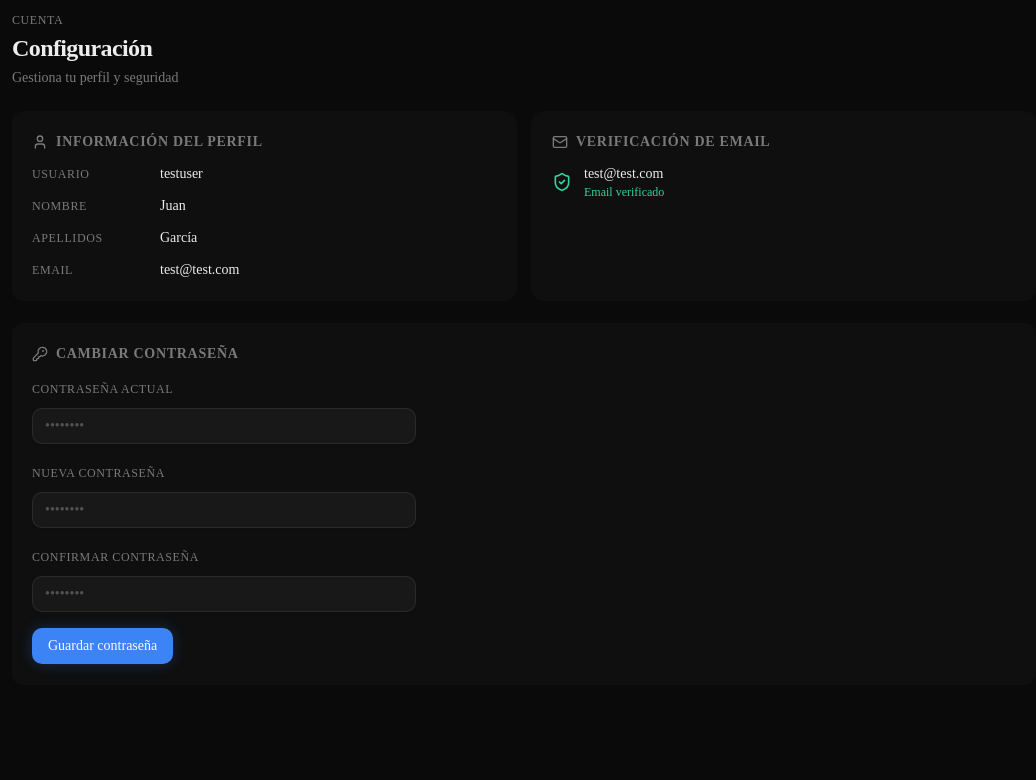
it: SettingsPage › shows success message after changing password
Type "oldpass123" into the password field labelled "Contraseña actual" at (224, 426), box [32,408,416,444]
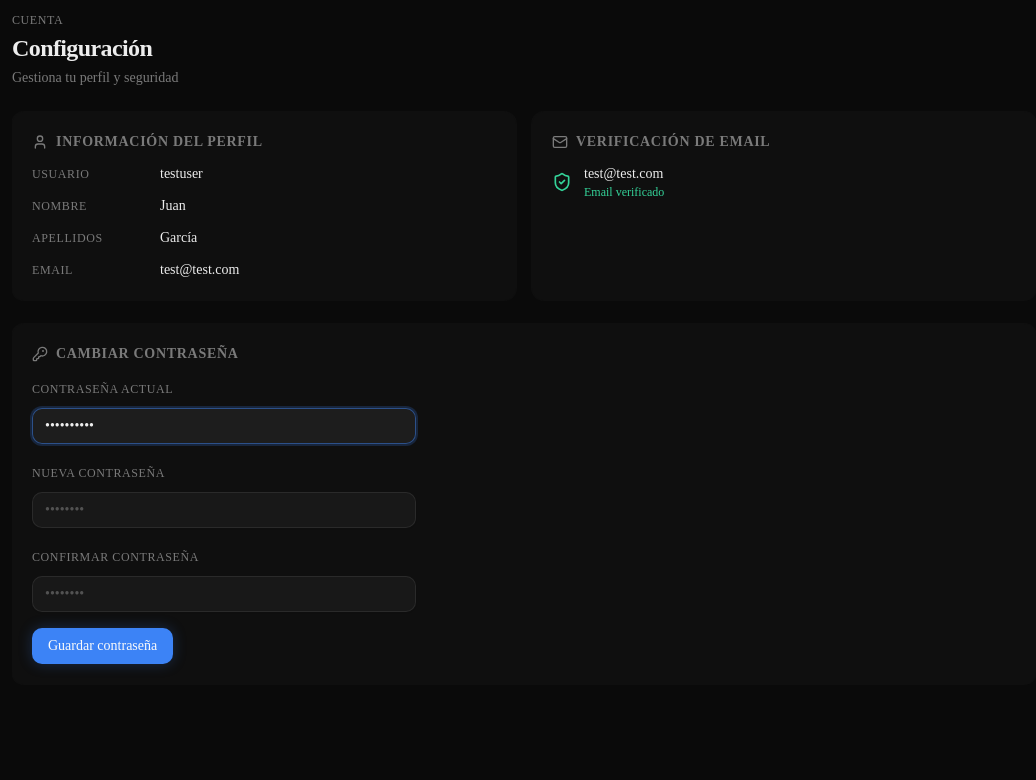
Type "newpass123" into the password field labelled "Nueva contraseña" at (224, 510), box [32,492,416,528]
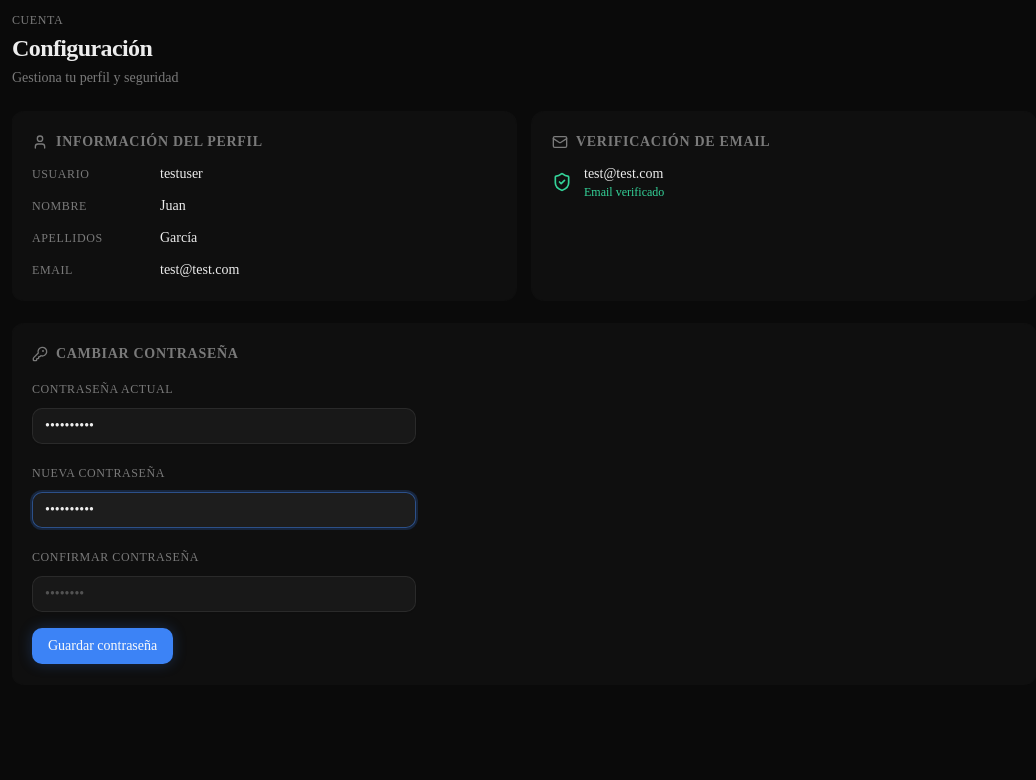
Type "newpass123" into the password field labelled "Confirmar contraseña" at (224, 594), box [32,576,416,612]
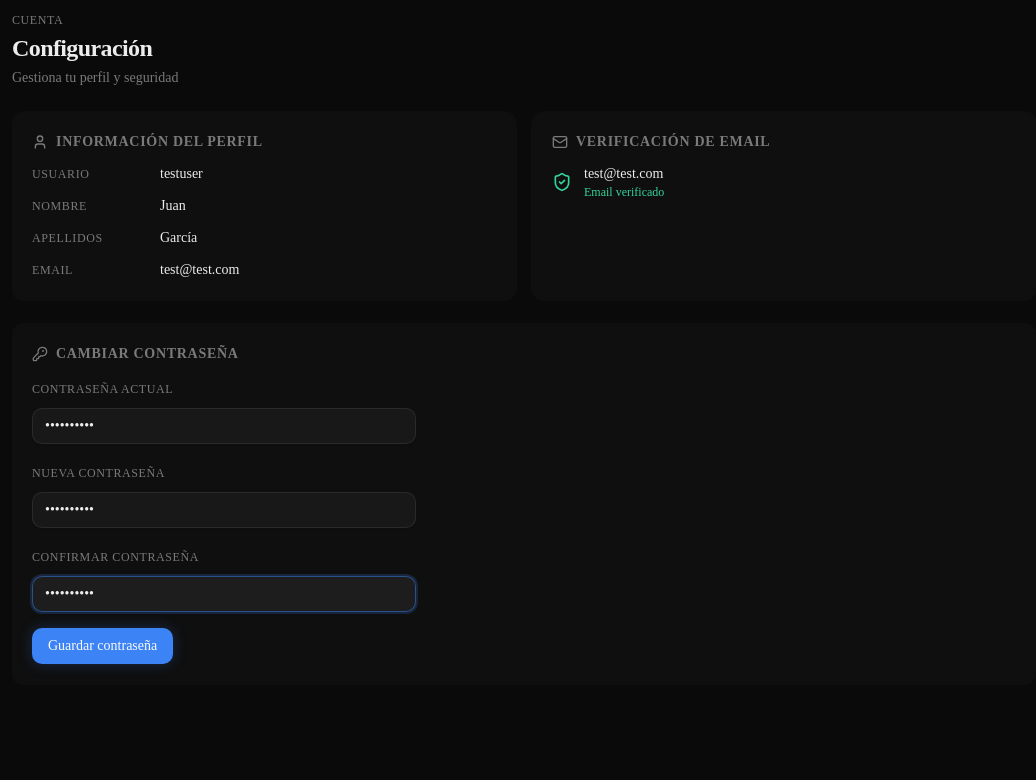
Click the button "Guardar contraseña" at (103, 646), box [32,628,173,664]
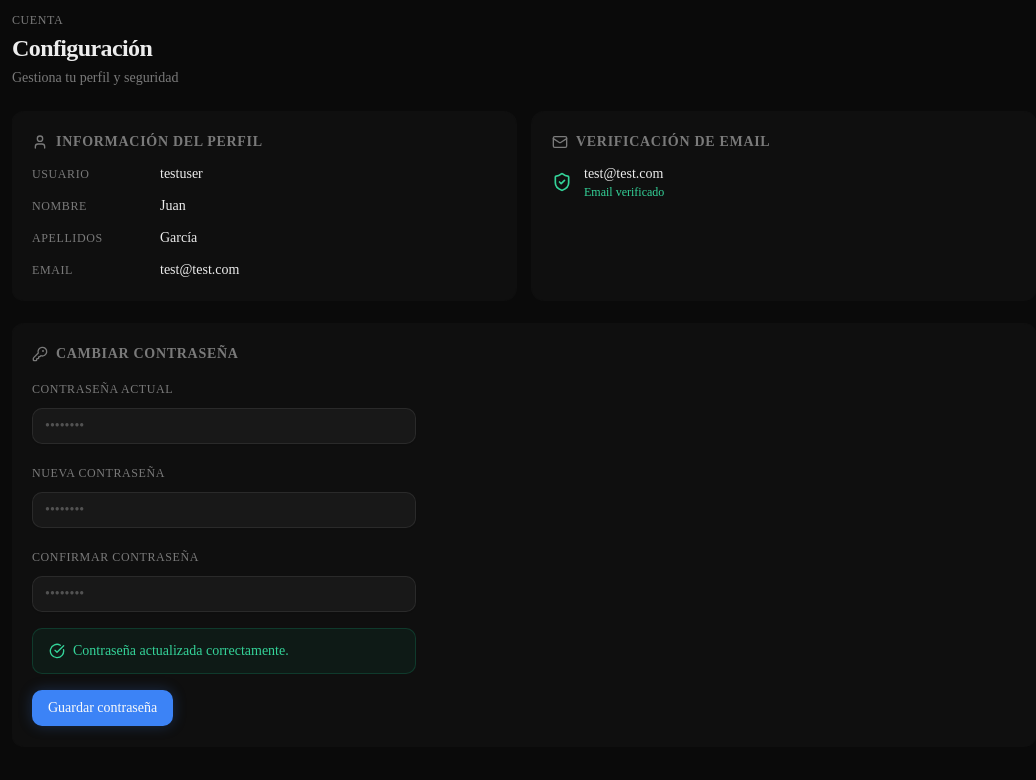
Result: the text "Contraseña actualizada correctamente." is shown at [73,641,289,661]
